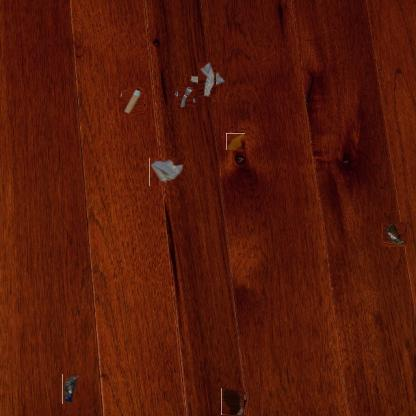dirty: (149, 158, 184, 186), (194, 66, 221, 92), (120, 88, 146, 112), (382, 222, 406, 246), (62, 374, 79, 404), (175, 87, 195, 107)
liquid: (219, 390, 246, 416), (226, 132, 245, 150)
